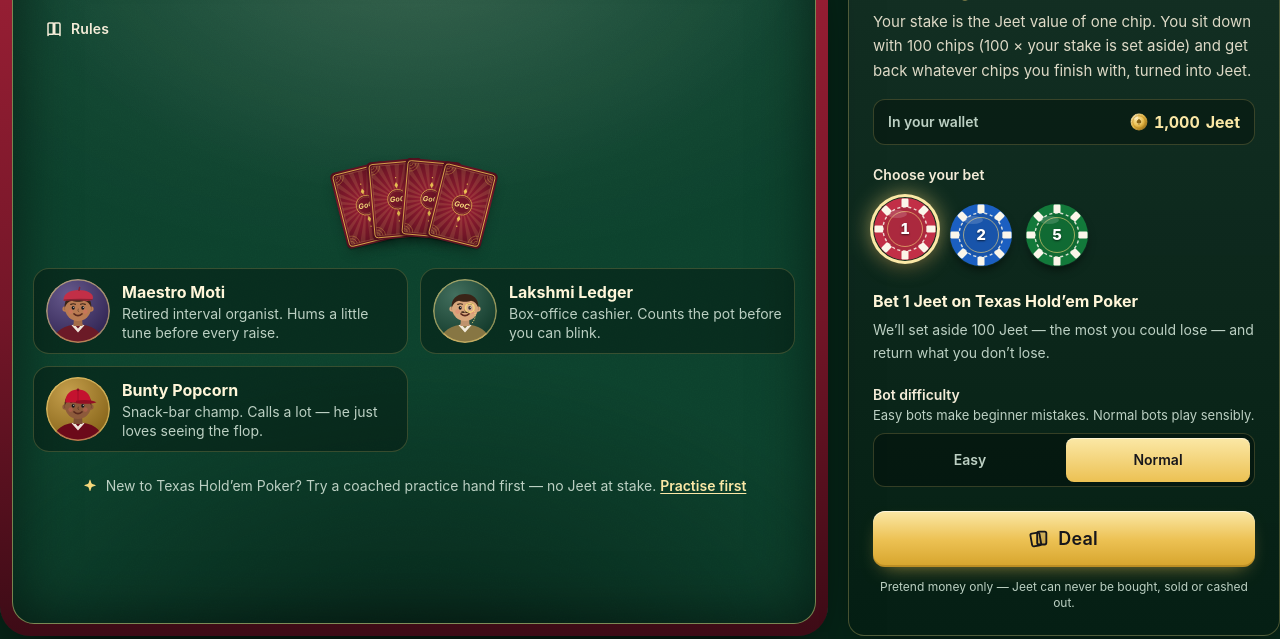
it: /games/texas-holdem/play (GameShell + the real module) › splitPot: Aces against Aces — a push, and every chip of the buy-in comes back
Click the button "2".
click(981, 235)  # box [949,203,1013,267]
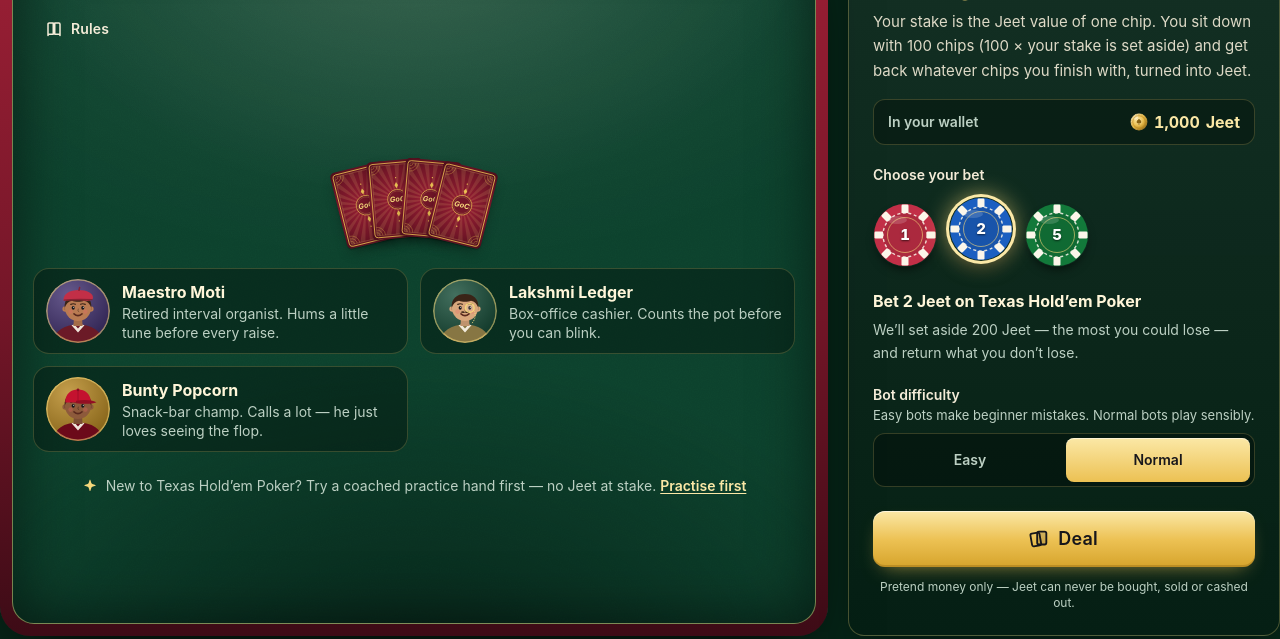
Click the button with test id "deal-button".
click(1064, 538)  # box [873,510,1255,566]
Wait 2100 ms
(page scrolled)
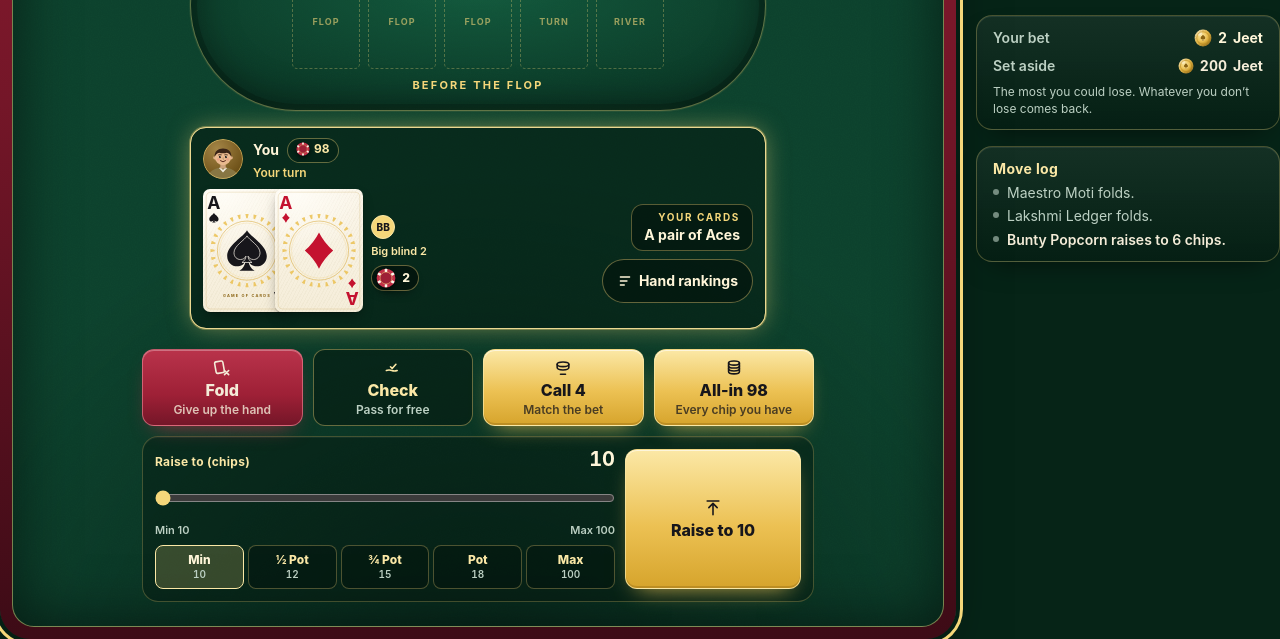
Click the button "Pot 18".
click(478, 567)  # box [433,545,522,589]
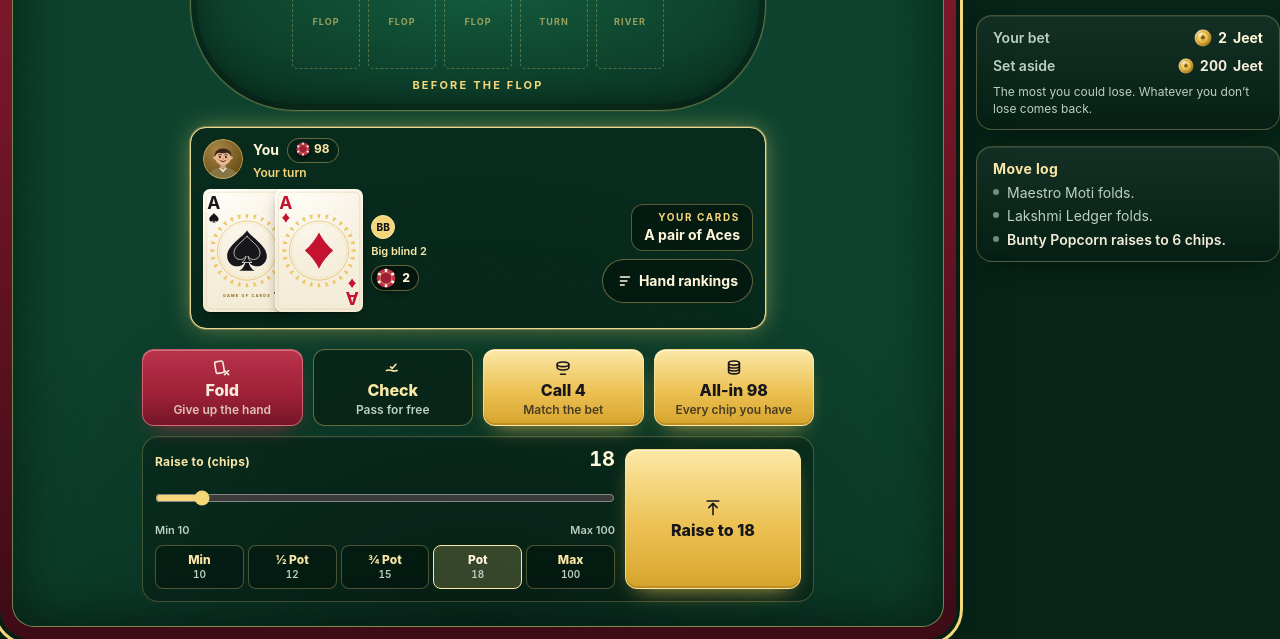
Click the button with test id "holdem-raise".
click(713, 519)  # box [625,449,801,589]
Wait 700 ms
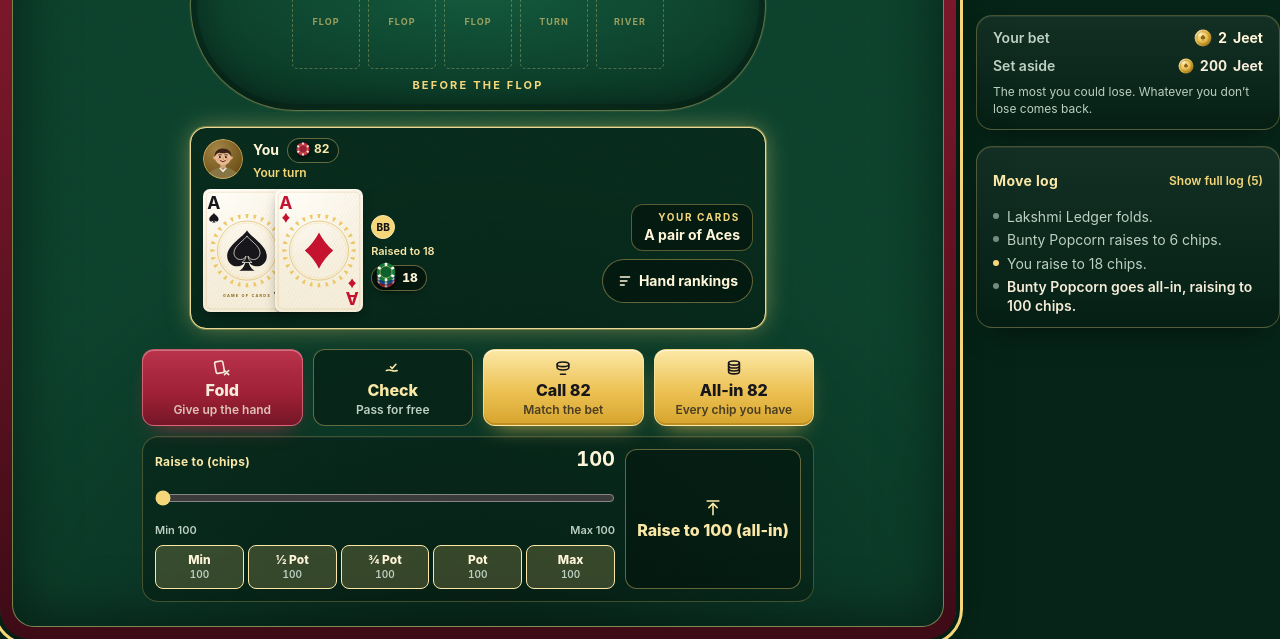
Click the button with test id "holdem-call".
click(563, 388)  # box [483,349,644,426]
Wait 2600 ms
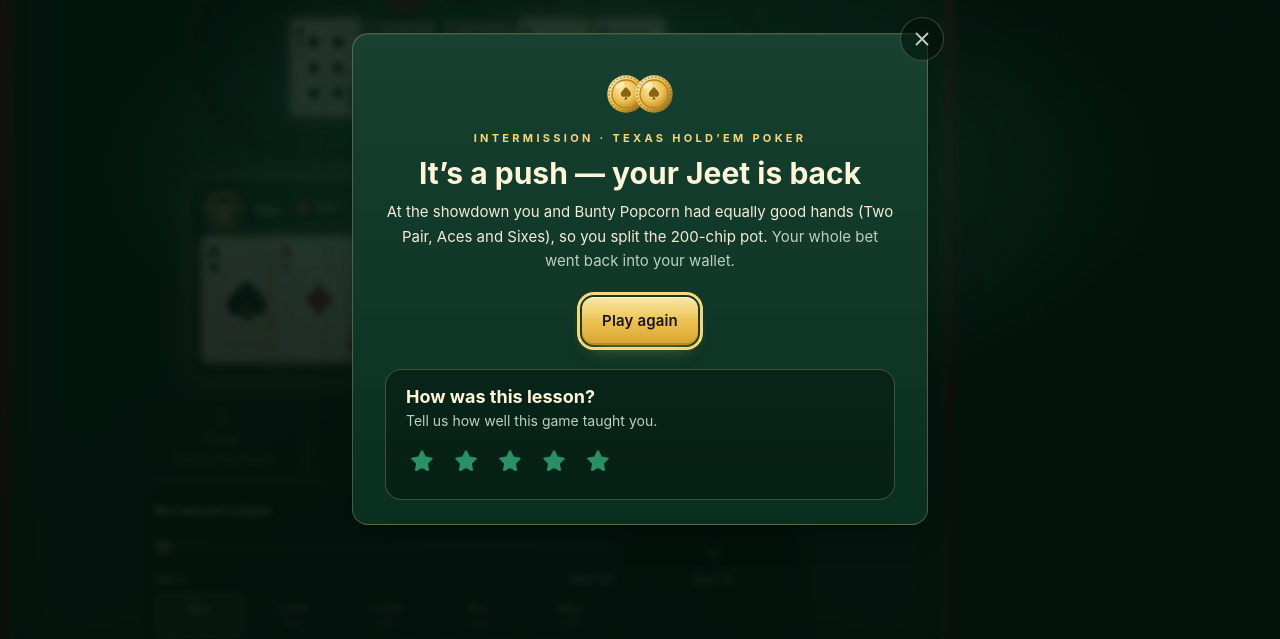
Now the dialog with test id "push-overlay" is shown, box [352,33,928,525]
Now the text with test id "push-summary" shows "you split the 200-chip pot", box [387,202,893,246]
